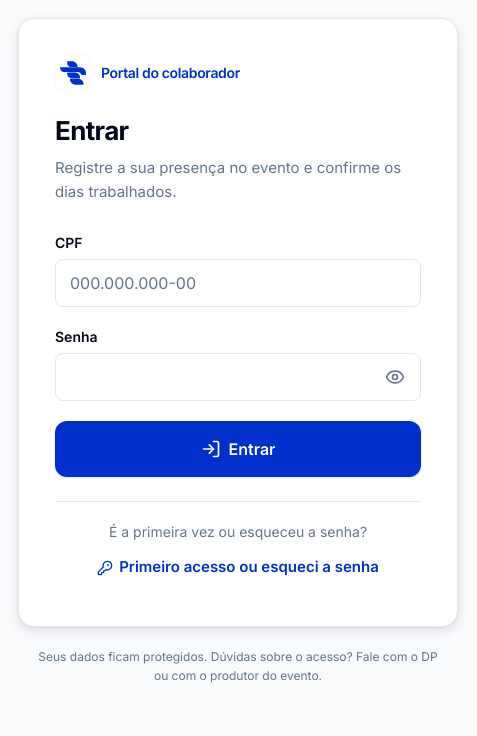
Entrar › 429: muitas tentativas, aguarde alguns minutos
Type "12345678901" into the field labelled "CPF" at (238, 283), box [55,259,421,307]
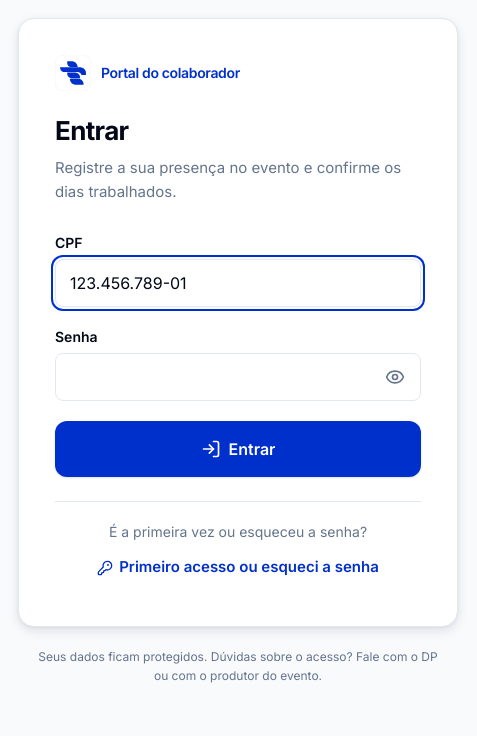
Type "qualquer1" into the password field labelled "Senha" at (238, 377), box [55,353,421,401]
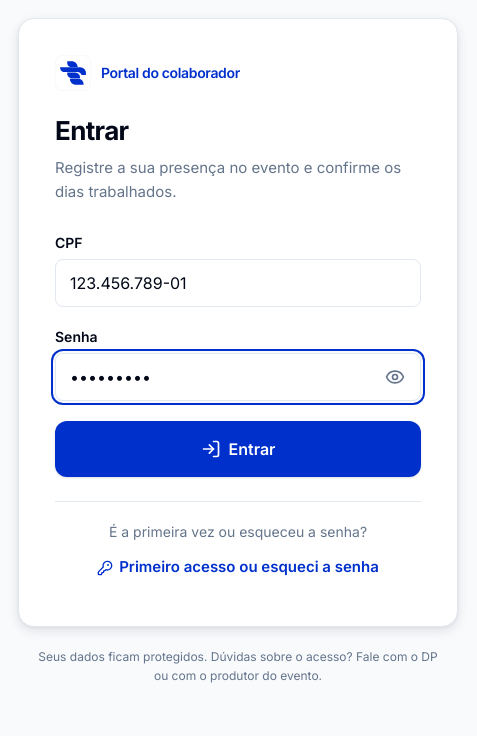
Click the button "Entrar" at (238, 449), box [55,421,421,477]
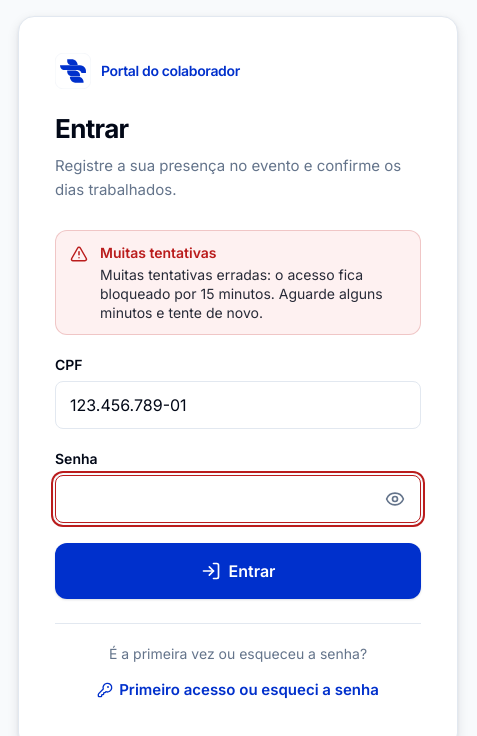
Now the message shows "Muitas tentativas", box [100,244,217,261]
Now the message shows "Aguarde alguns minutos", box [100,285,383,321]
